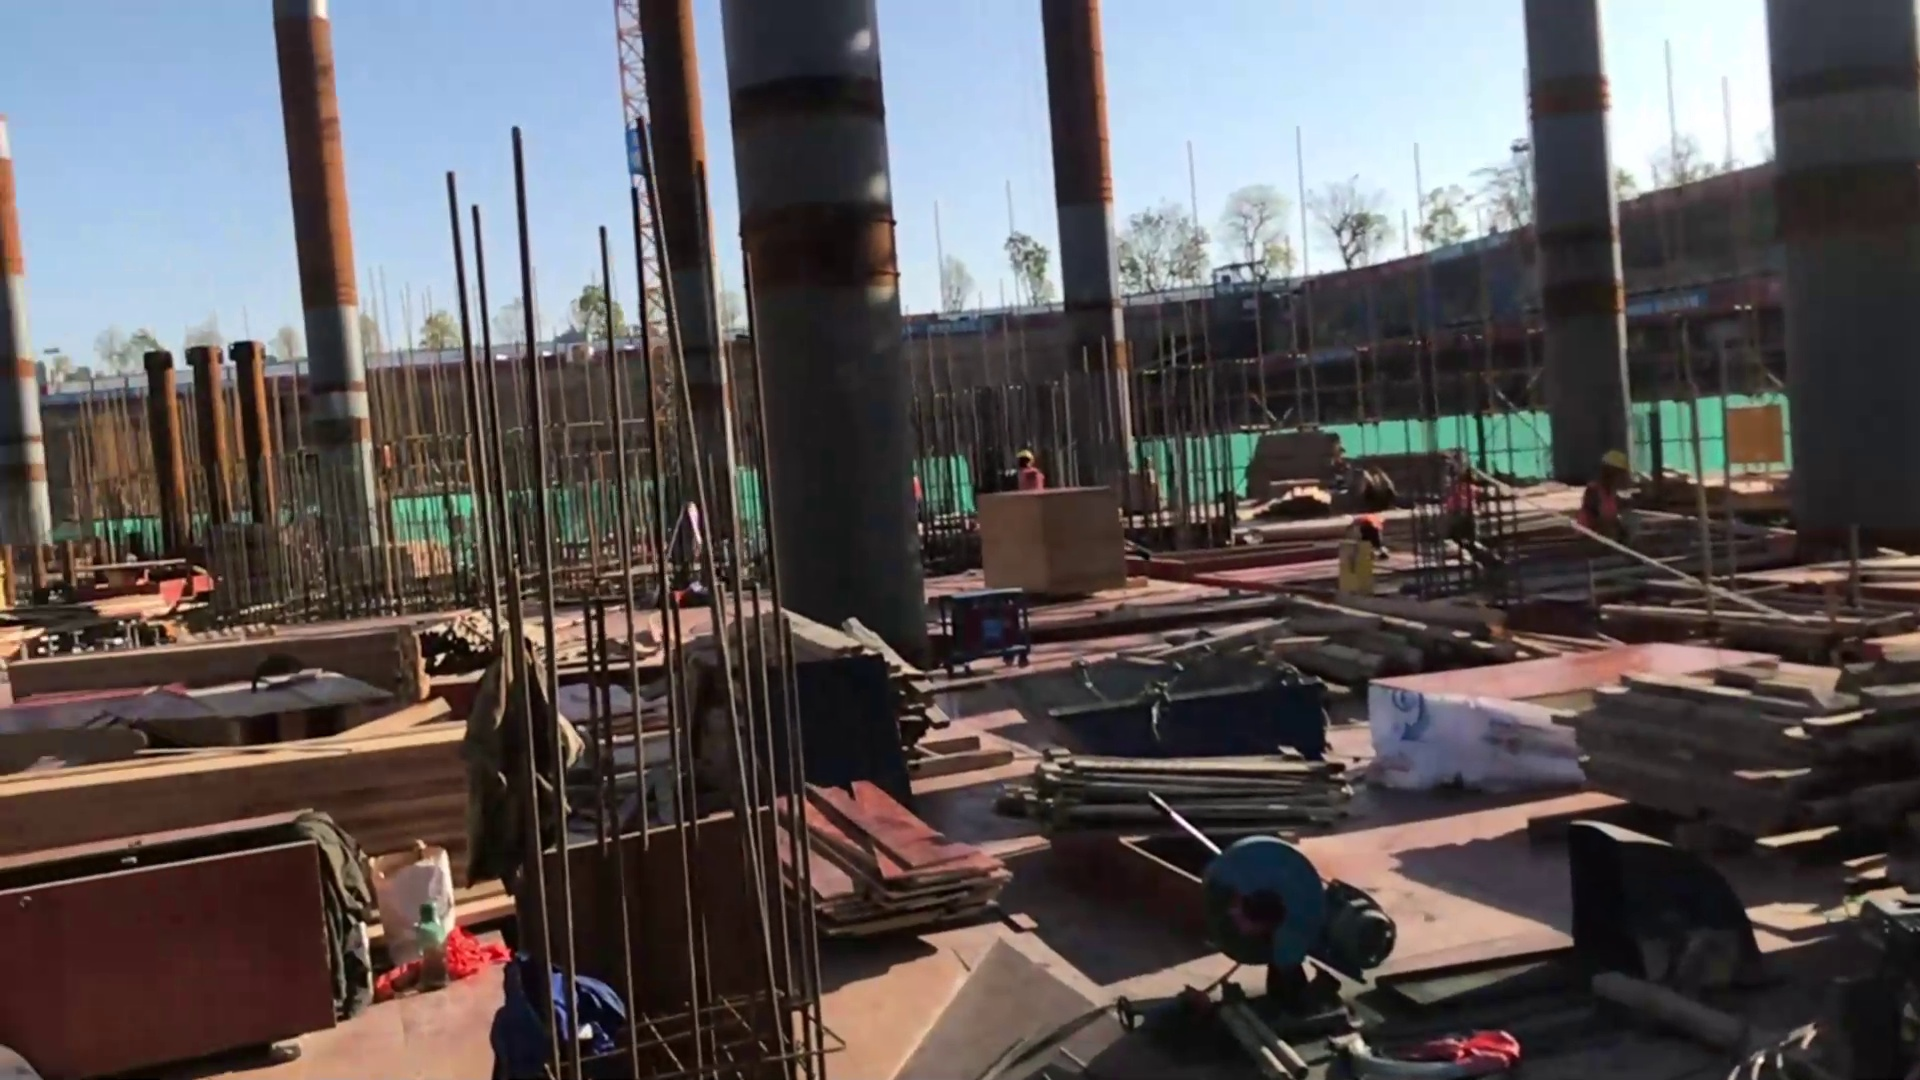board: (752, 787, 1015, 934), (1033, 752, 1344, 837)
wood: (1, 725, 485, 910), (1578, 666, 1920, 819)
